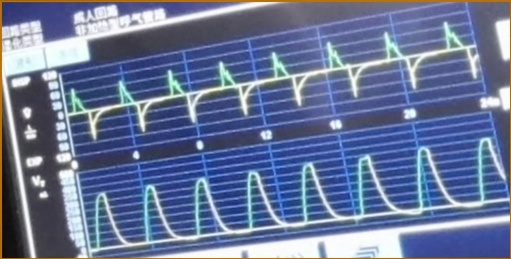Accumulation Flow: (66, 21, 479, 138)
Volume: (91, 141, 502, 251)
